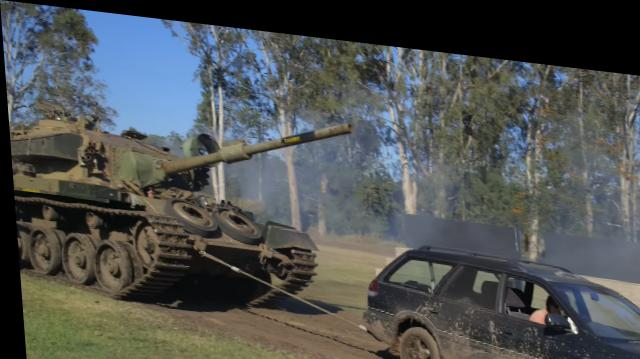tank: (9, 157, 292, 303)
